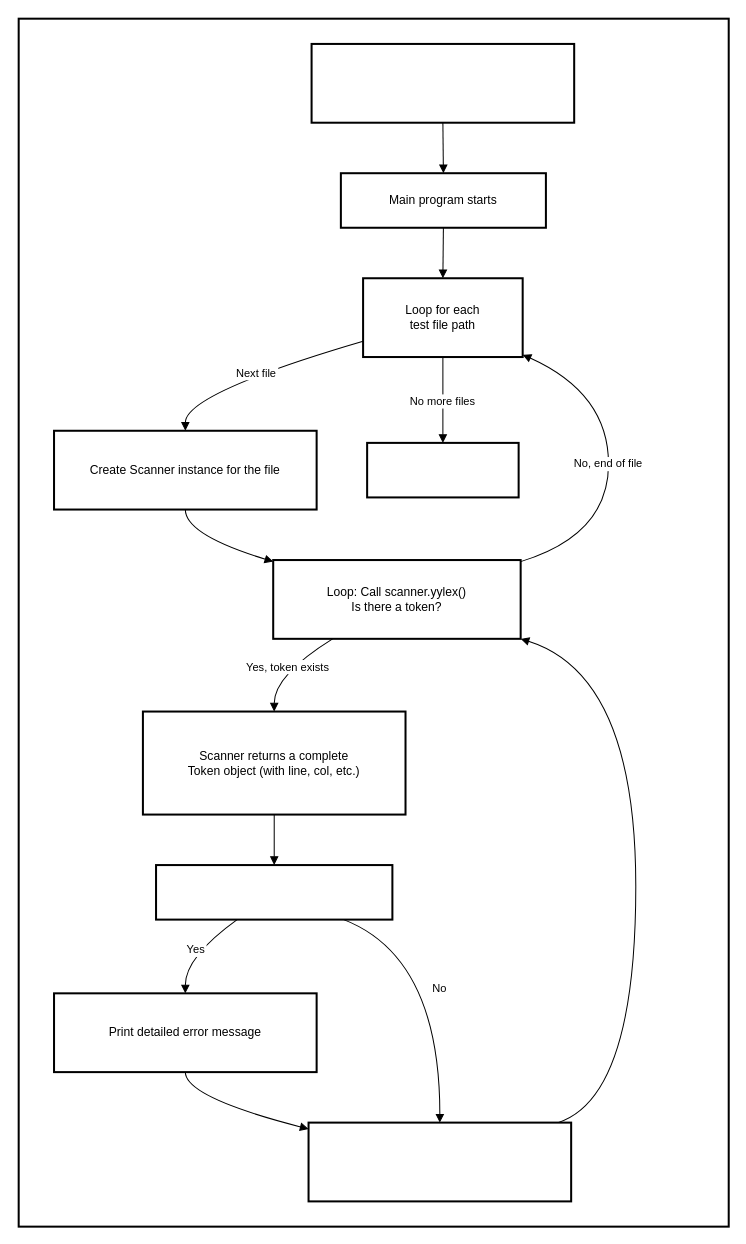
This 746x1244 diagram has some shape labels left out. The shapes that lost their labels are listed below. From the top down, each one's box as (x1, y1, x2, y2) in pixels, then its label:
(310, 42, 575, 123): User runs the main program (e.g., java -cp src Main)
(366, 441, 519, 498): End Program
(155, 864, 393, 920): Is token.type an ERROR?
(307, 1121, 572, 1202): Print token info to console table
